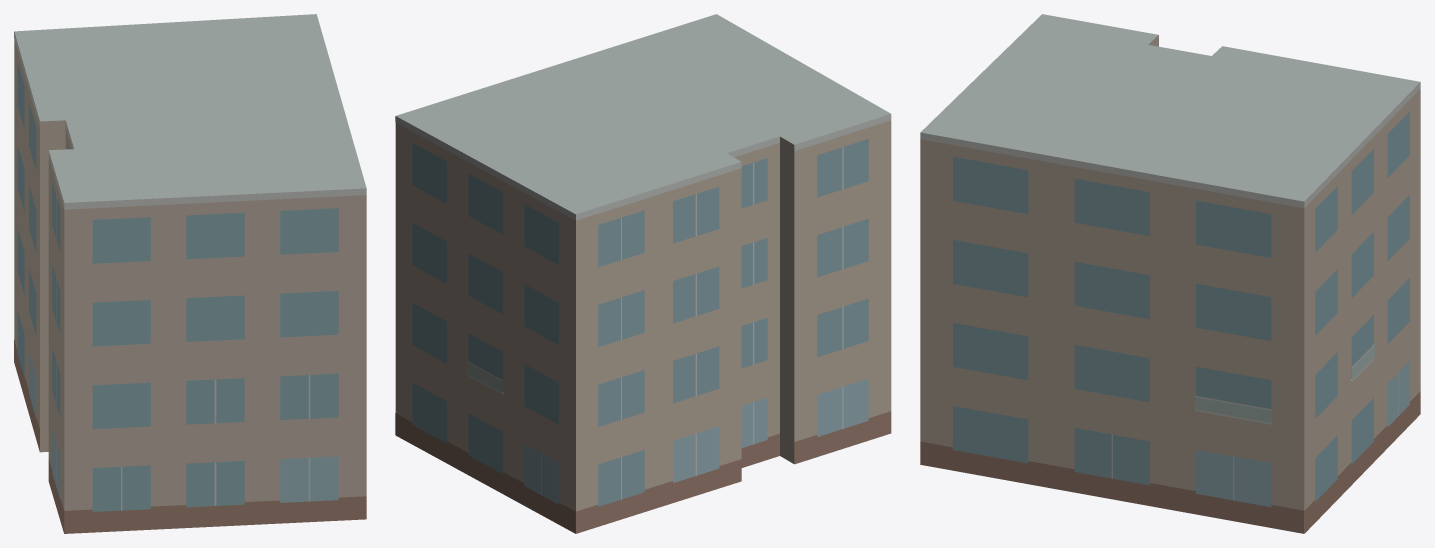
Rendered from survey-upis-32677430.glb.
3 views of the same model, side by side, from view 1: azimuth 30°, elevation 25°; view 2: azimuth 150°, elevation 25°; view 3: azimuth 270°, elevation 25° (orthographic). The views are drawn at different scales.
Visible parts, largest first — view 1: survey-upis-32677430.tmp; view 2: survey-upis-32677430.tmp; view 3: survey-upis-32677430.tmp.
Part boxes in pixels (bbox=[...]): survey-upis-32677430.tmp: bbox=[14, 14, 366, 533]; survey-upis-32677430.tmp: bbox=[395, 14, 891, 533]; survey-upis-32677430.tmp: bbox=[920, 14, 1420, 533].
Bounding box in the file's own units: 14.79 × 12.2 × 16.66.
